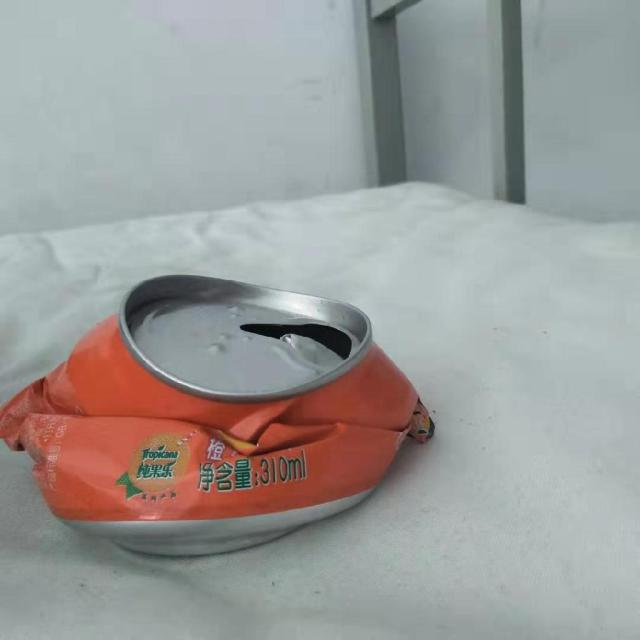-Recyclables - can-: (3, 271, 435, 561)
